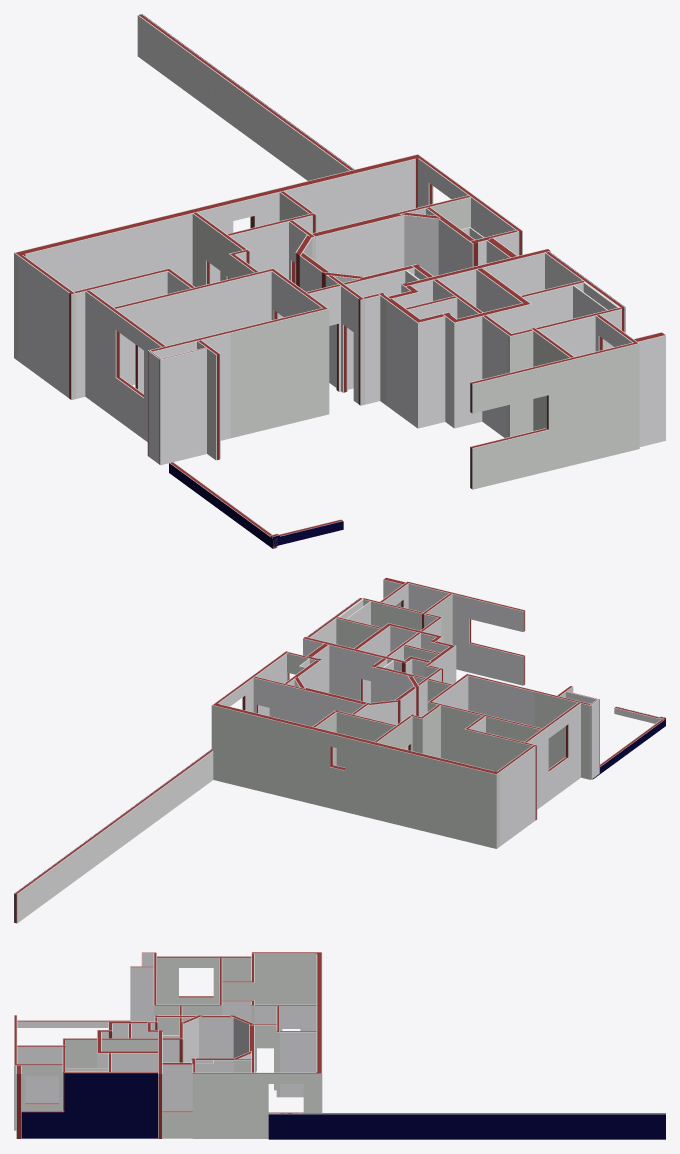
Rendered from PROJETO BIM 12 ANDARES_Segundo_pavimento_IfcWallStandardCase.dae.
3 renders of one model, top to bottom at view 1: azimuth 30°, elevation 25°; view 2: azimuth 150°, elevation 25°; view 3: azimuth 270°, elevation 25°, orthographic. The views are drawn at different scales.
Parts seen in each view (by area): view 1: 2k8VaP38D1sBo57KDqpsK_, 2k8VaP38D1sBo57KDqpsLE, 2k8VaP38D1sBo57KDqpsL6, 3l4Yq7pwrDGumYsSSFGync, 2k8VaP38D1sBo57KDqpsL8, 2k8VaP38D1sBo57KDqpsLC, 2k8VaP38D1sBo57KDqpsLD, 2k8VaP38D1sBo57KDqpsL9, 2k8VaP38D1sBo57KDqpsL1, 2k8VaP38D1sBo57KDqpsLI, 2k8VaP38D1sBo57KDqpsLB, 2k8VaP38D1sBo57KDqpsKa (+31 smaller); view 2: 2k8VaP38D1sBo57KDqpsLE, 2k8VaP38D1sBo57KDqpsLD, 3l4Yq7pwrDGumYsSSFGync, 2k8VaP38D1sBo57KDqpsK_, 2k8VaP38D1sBo57KDqpsL9, 2k8VaP38D1sBo57KDqpsLC, 2k8VaP38D1sBo57KDqpsLP, 2k8VaP38D1sBo57KDqpsL8, 2k8VaP38D1sBo57KDqpsL6, 2k8VaP38D1sBo57KDqpsLV, 2k8VaP38D1sBo57KDqpsLB, 2k8VaP38D1sBo57KDqpsL0 (+19 smaller); view 3: 3l4Yq7pwrDGumYsSSFGync, 2k8VaP38D1sBo57KDqpsKf, 2k8VaP38D1sBo57KDqpsL0, 2k8VaP38D1sBo57KDqpsLC, 2k8VaP38D1sBo57KDqpsL9, 2k8VaP38D1sBo57KDqpsKr, 2k8VaP38D1sBo57KDqpsKz, 2k8VaP38D1sBo57KDqpsLG, 2k8VaP38D1sBo57KDqpsLO, 2k8VaP38D1sBo57KDqpsKt, 2k8VaP38D1sBo57KDqpsL3, 2k8VaP38D1sBo57KDqpsK$ (+20 smaller).
Boxes of the visible parts, box(x1,y1,x2,y2) form: 2k8VaP38D1sBo57KDqpsK_: box(470, 342, 634, 489); 2k8VaP38D1sBo57KDqpsLE: box(14, 194, 256, 360); 2k8VaP38D1sBo57KDqpsL6: box(228, 308, 324, 438); 3l4Yq7pwrDGumYsSSFGync: box(137, 14, 354, 180); 2k8VaP38D1sBo57KDqpsL8: box(114, 268, 275, 393); 2k8VaP38D1sBo57KDqpsLC: box(18, 255, 75, 399); 2k8VaP38D1sBo57KDqpsLD: box(275, 154, 421, 231); 2k8VaP38D1sBo57KDqpsL9: box(85, 290, 165, 441); 2k8VaP38D1sBo57KDqpsL1: box(162, 347, 206, 464); 2k8VaP38D1sBo57KDqpsLI: box(312, 214, 404, 276); 2k8VaP38D1sBo57KDqpsLB: box(74, 268, 171, 398); 2k8VaP38D1sBo57KDqpsKa: box(414, 314, 445, 428); 2k8VaP38D1sBo57KDqpsLE: box(329, 731, 499, 848); 2k8VaP38D1sBo57KDqpsLD: box(211, 703, 315, 803); 3l4Yq7pwrDGumYsSSFGync: box(14, 749, 213, 923); 2k8VaP38D1sBo57KDqpsK_: box(408, 582, 525, 685); 2k8VaP38D1sBo57KDqpsL9: box(524, 702, 580, 809); 2k8VaP38D1sBo57KDqpsLC: box(497, 744, 537, 846); 2k8VaP38D1sBo57KDqpsLP: box(303, 636, 408, 701); 2k8VaP38D1sBo57KDqpsL8: box(427, 701, 541, 763); 2k8VaP38D1sBo57KDqpsL6: box(468, 674, 535, 726); 2k8VaP38D1sBo57KDqpsLV: box(253, 676, 307, 725); 2k8VaP38D1sBo57KDqpsLB: box(464, 728, 533, 771); 2k8VaP38D1sBo57KDqpsL0: box(215, 651, 288, 716); 3l4Yq7pwrDGumYsSSFGync: box(268, 1113, 665, 1139); 2k8VaP38D1sBo57KDqpsKf: box(21, 1072, 157, 1138); 2k8VaP38D1sBo57KDqpsL0: box(192, 1072, 316, 1138); 2k8VaP38D1sBo57KDqpsLC: box(251, 952, 316, 1004); 2k8VaP38D1sBo57KDqpsL9: box(157, 956, 251, 1004); 2k8VaP38D1sBo57KDqpsKr: box(280, 1031, 316, 1097); 2k8VaP38D1sBo57KDqpsKz: box(17, 1045, 65, 1102); 2k8VaP38D1sBo57KDqpsLG: box(199, 1015, 233, 1058); 2k8VaP38D1sBo57KDqpsLO: box(162, 1062, 192, 1110); 2k8VaP38D1sBo57KDqpsKt: box(254, 1004, 316, 1071); 2k8VaP38D1sBo57KDqpsL3: box(130, 966, 153, 1021); 2k8VaP38D1sBo57KDqpsK$: box(14, 1064, 62, 1130).
Size of the model in its own units: 13.08 by 29.4 by 3.56.
